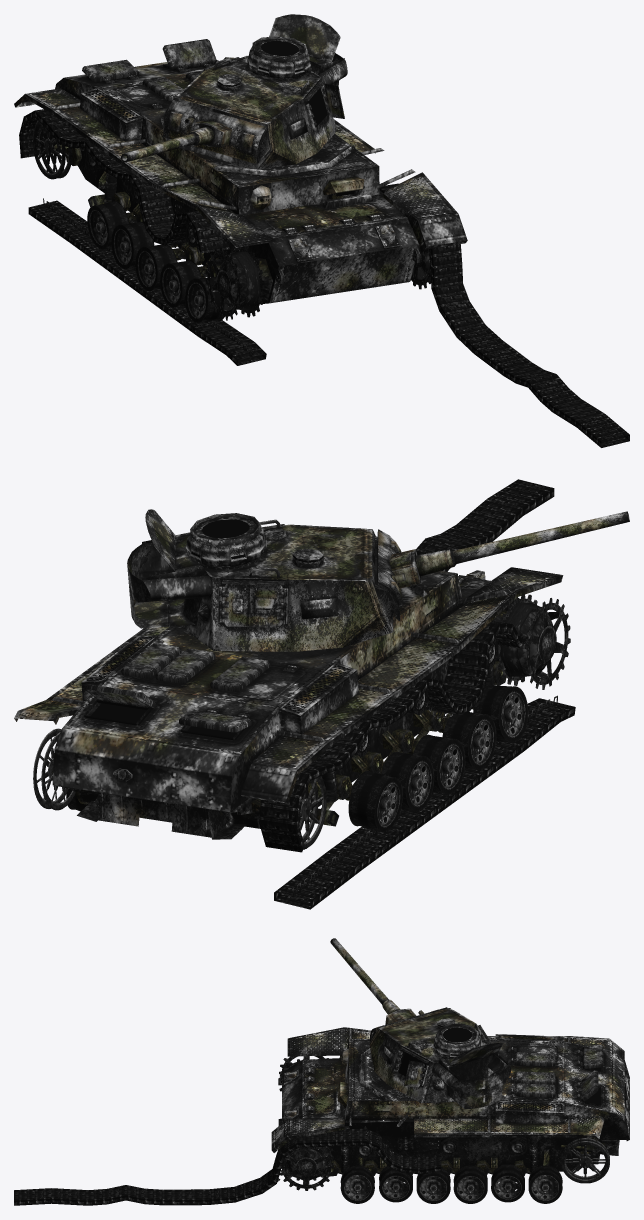
Rendered from P3J_model_damaged.FBX.
3 renders of one model, top to bottom at view 1: azimuth 30°, elevation 25°; view 2: azimuth 150°, elevation 25°; view 3: azimuth 270°, elevation 25°, orthographic. The views are drawn at different scales.
Parts seen in each view (by area): view 1: Body; view 2: Body; view 3: Body.
Part boxes in pixels (left/top/right/bottom): Body: left=14, top=14, right=629, bottom=447; Body: left=14, top=479, right=629, bottom=909; Body: left=14, top=938, right=629, bottom=1205.
Bounding box in the file's own units: 4.11 × 2.67 × 9.18.
Materials: 1 (1 with a texture image).
